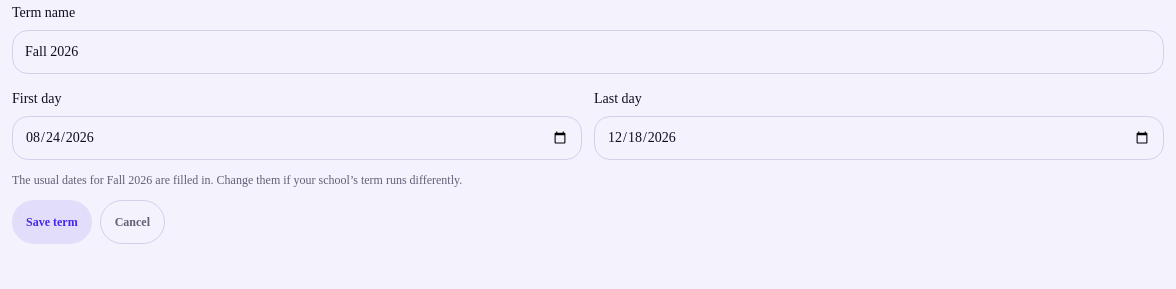
TermForm › shows a save failure to the student
Click the button "Save term".
click(52, 222)  # box [12,200,92,244]
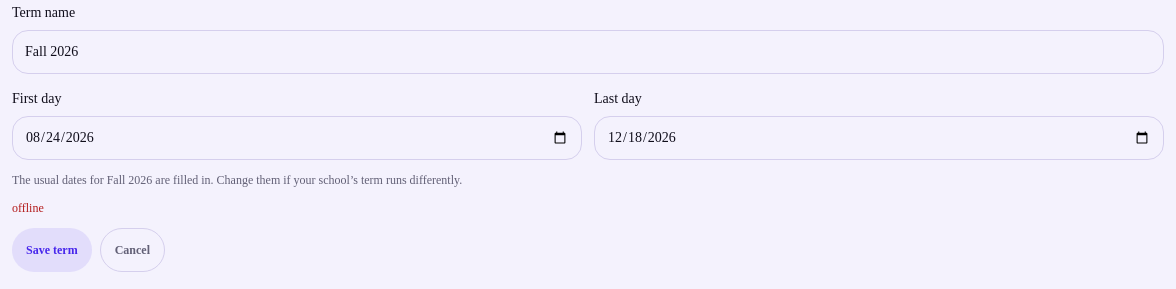
Expected: the message reads "offline", [12,201,44,215]
